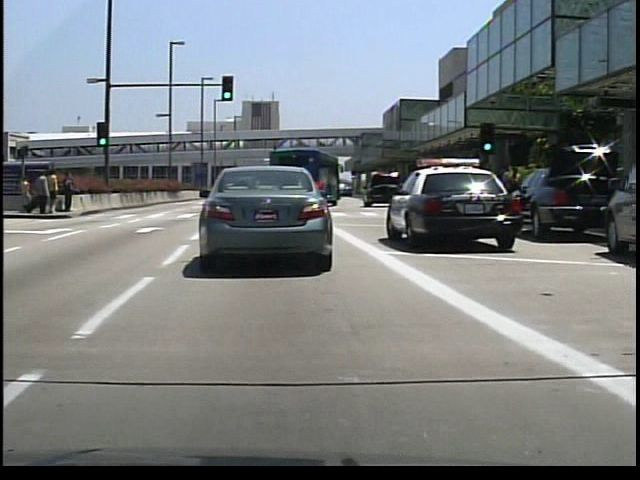person: (60, 170, 77, 215), (34, 171, 50, 215), (15, 173, 32, 214), (46, 168, 59, 216)
